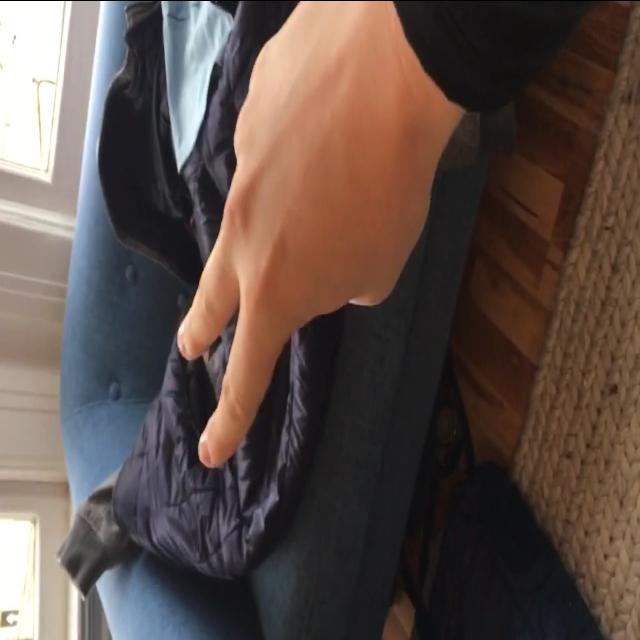Scissors: (174, 0, 436, 466)
